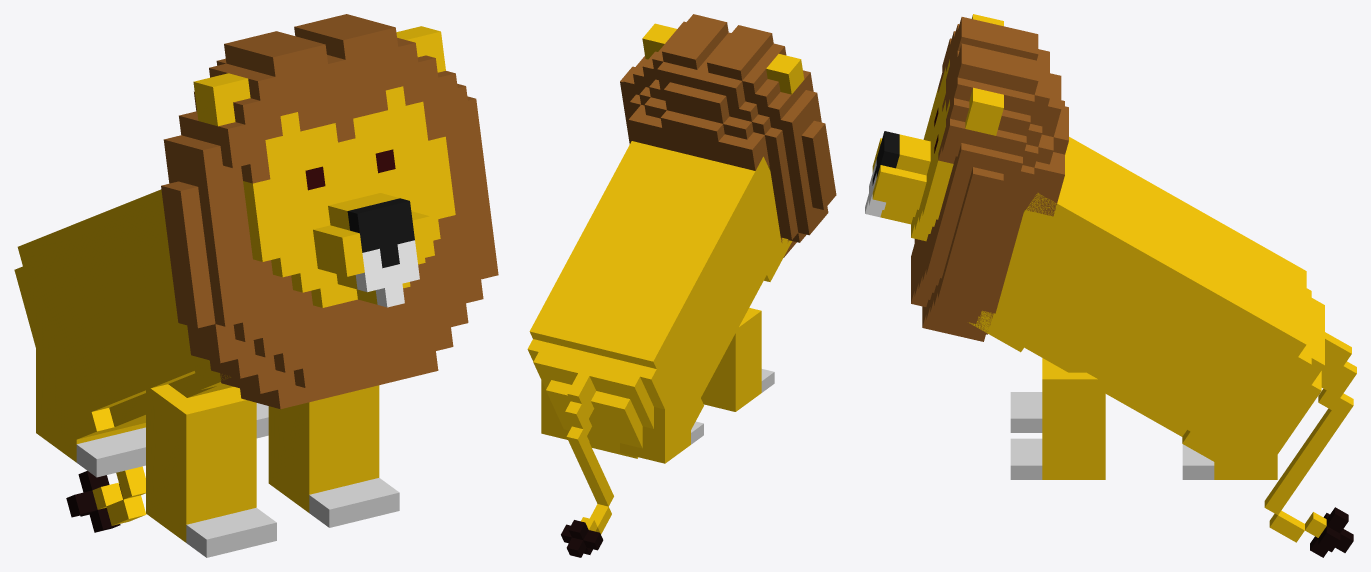
Rendered from Lion-poop.fbx.
3 renders of one model, left to right at view 1: azimuth 30°, elevation 25°; view 2: azimuth 150°, elevation 25°; view 3: azimuth 270°, elevation 25°, orthographic. The views are drawn at different scales.
Parts seen in each view (by area): view 1: Head, Body, Right Front Leg, Left Front Leg, RIght Back leg; view 2: Body, Head, Right Front Leg, RIght Back leg, Left Back Leg; view 3: Body, Head, Left Front Leg, Left Back Leg, Right Front Leg.
Part boxes in pixels (bbox=[...]): Head: bbox=[161, 14, 498, 409]; Body: bbox=[14, 189, 233, 532]; Right Front Leg: bbox=[146, 384, 276, 557]; Left Front Leg: bbox=[268, 385, 399, 527]; RIght Back leg: bbox=[36, 349, 145, 477]; Body: bbox=[527, 141, 792, 557]; Head: bbox=[620, 14, 836, 257]; Right Front Leg: bbox=[701, 308, 774, 411]; RIght Back leg: bbox=[620, 407, 703, 463]; Left Back Leg: bbox=[541, 380, 589, 441]; Body: bbox=[969, 137, 1356, 557]; Head: bbox=[865, 14, 1068, 341]; Left Front Leg: bbox=[1010, 358, 1105, 479]; Left Back Leg: bbox=[1182, 381, 1277, 479]; Right Front Leg: bbox=[1010, 392, 1042, 432].
Bounding box in the file's own units: 170 × 358 × 310.
Materials: 1 (1 with a texture image).
